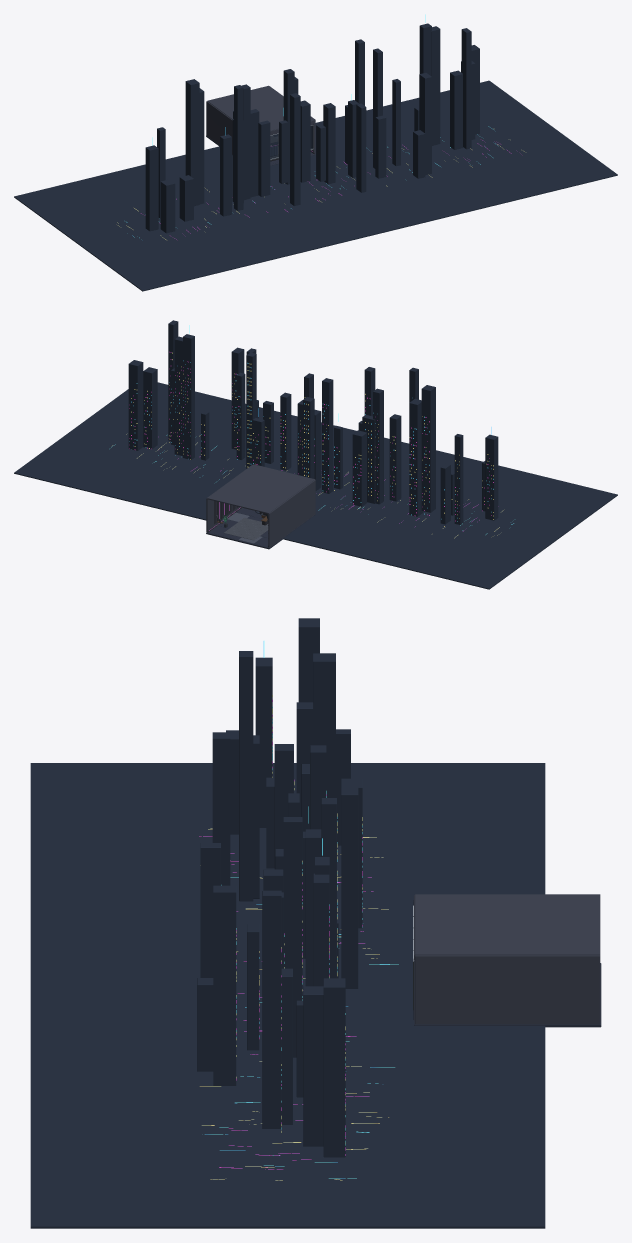
File: skyline_penthouse.glb
The picture shows the model from 3 angles, top to bottom: view 1: azimuth 30°, elevation 25°; view 2: azimuth 150°, elevation 25°; view 3: azimuth 270°, elevation 25°; orthographic projection. The views are drawn at different scales.
Parts seen in each view (by area): view 1: Distant harbour water, Harbour skyline tower 5, Floating ceiling plane, Harbour skyline tower 8, Harbour skyline tower 13, Harbour skyline tower 0, Harbour skyline tower 31, Harbour skyline tower 29, Harbour skyline tower 26, Harbour skyline tower 30, Harbour skyline tower 12, Harbour skyline tower 7 (+22 smaller); view 2: Distant harbour water, Floating ceiling plane, Harbour skyline tower 5, Left graphite plaster wall, Harbour skyline tower 6, Harbour skyline tower 28, Harbour skyline tower 33, Harbour skyline tower 15, Harbour skyline tower 32, Harbour skyline tower 0, Harbour skyline tower 11, Harbour skyline tower 9 (+20 smaller); view 3: Distant harbour water, Right graphite plaster wall, Floating ceiling plane, Harbour skyline tower 26, Harbour skyline tower 31, Harbour skyline tower 33, Harbour skyline tower 8, Central spire, Harbour skyline tower 23, Harbour skyline tower 32, Harbour skyline tower 6, Harbour skyline tower 13 (+17 smaller).
Part boxes in pixels (bbox=[...]): Distant harbour water: bbox=[14, 80, 617, 291]; Harbour skyline tower 5: bbox=[185, 79, 199, 206]; Floating ceiling plane: bbox=[207, 85, 314, 130]; Harbour skyline tower 8: bbox=[234, 85, 243, 210]; Harbour skyline tower 13: bbox=[290, 93, 300, 205]; Harbour skyline tower 0: bbox=[145, 145, 158, 231]; Harbour skyline tower 31: bbox=[461, 28, 471, 149]; Harbour skyline tower 29: bbox=[431, 26, 440, 145]; Harbour skyline tower 26: bbox=[419, 73, 431, 175]; Harbour skyline tower 30: bbox=[450, 70, 462, 149]; Harbour skyline tower 12: bbox=[258, 120, 270, 196]; Harbour skyline tower 7: bbox=[220, 134, 231, 216]; Distant harbour water: bbox=[14, 382, 617, 589]; Floating ceiling plane: bbox=[207, 464, 314, 513]; Harbour skyline tower 5: bbox=[421, 385, 435, 512]; Left graphite plaster wall: bbox=[268, 479, 315, 547]; Harbour skyline tower 6: bbox=[409, 398, 423, 516]; Harbour skyline tower 28: bbox=[183, 334, 194, 459]; Harbour skyline tower 33: bbox=[128, 360, 143, 450]; Harbour skyline tower 15: bbox=[322, 378, 333, 493]; Harbour skyline tower 32: bbox=[143, 367, 157, 448]; Harbour skyline tower 0: bbox=[485, 434, 498, 520]; Harbour skyline tower 11: bbox=[352, 430, 366, 506]; Harbour skyline tower 9: bbox=[389, 414, 401, 501]; Distant harbour water: bbox=[30, 763, 545, 1228]; Right graphite plaster wall: bbox=[415, 955, 600, 1024]; Floating ceiling plane: bbox=[415, 894, 600, 955]; Harbour skyline tower 26: bbox=[213, 885, 236, 1085]; Harbour skyline tower 31: bbox=[262, 890, 281, 1128]; Harbour skyline tower 33: bbox=[323, 978, 345, 1157]; Harbour skyline tower 8: bbox=[239, 651, 253, 901]; Central spire: bbox=[341, 787, 358, 988]; Harbour skyline tower 23: bbox=[283, 817, 302, 1057]; Harbour skyline tower 32: bbox=[303, 986, 323, 1146]; Harbour skyline tower 6: bbox=[313, 653, 335, 797]; Harbour skyline tower 13: bbox=[212, 732, 230, 885].
Size of the model in its own units: 64 by 17.61 by 33.26.
